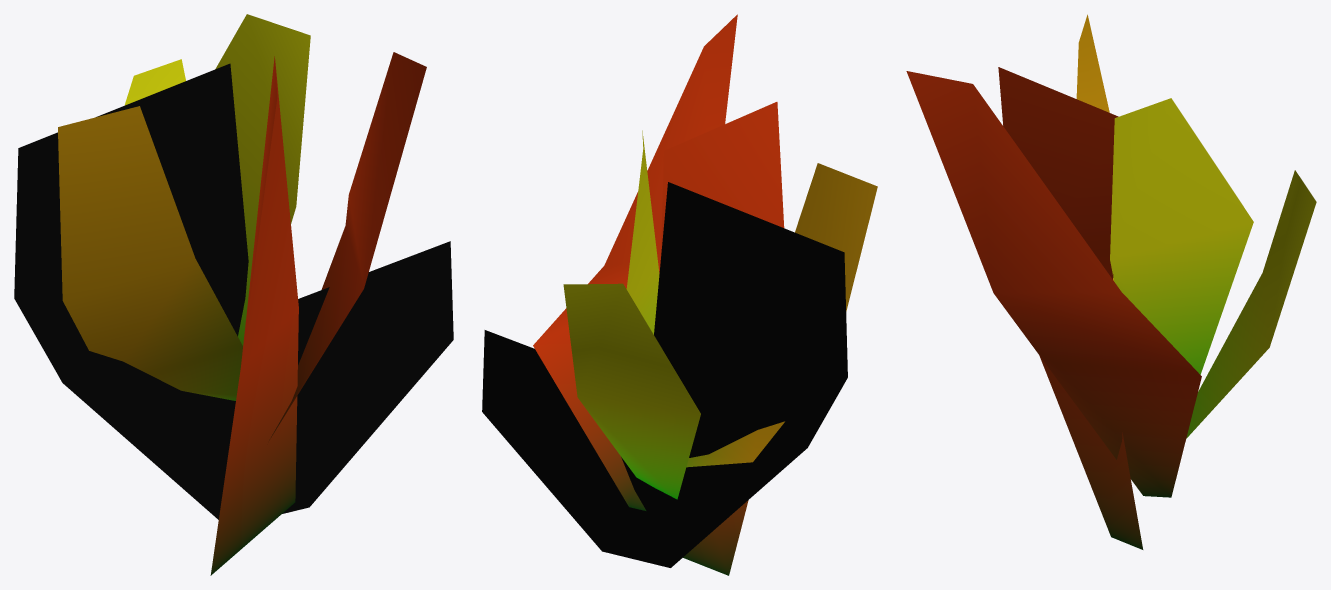
The model's file is Seaweed_LOD1_Var6_sdpjN.fbx.
The picture shows the model from 3 angles, left to right: view 1: azimuth 30°, elevation 25°; view 2: azimuth 150°, elevation 25°; view 3: azimuth 270°, elevation 25°; orthographic projection. The views are drawn at different scales.
Visible parts, largest first — view 1: merge1; view 2: merge1; view 3: merge1.
Part boxes in pixels (x1=…): merge1: x1=14, y1=14, x2=453, y2=575; merge1: x1=482, y1=14, x2=877, y2=575; merge1: x1=906, y1=14, x2=1316, y2=549.
Size of the model in its own units: 12.09 by 14.91 by 10.84.
